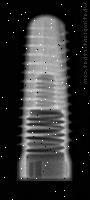Camlog: (15, 12, 73, 180)
